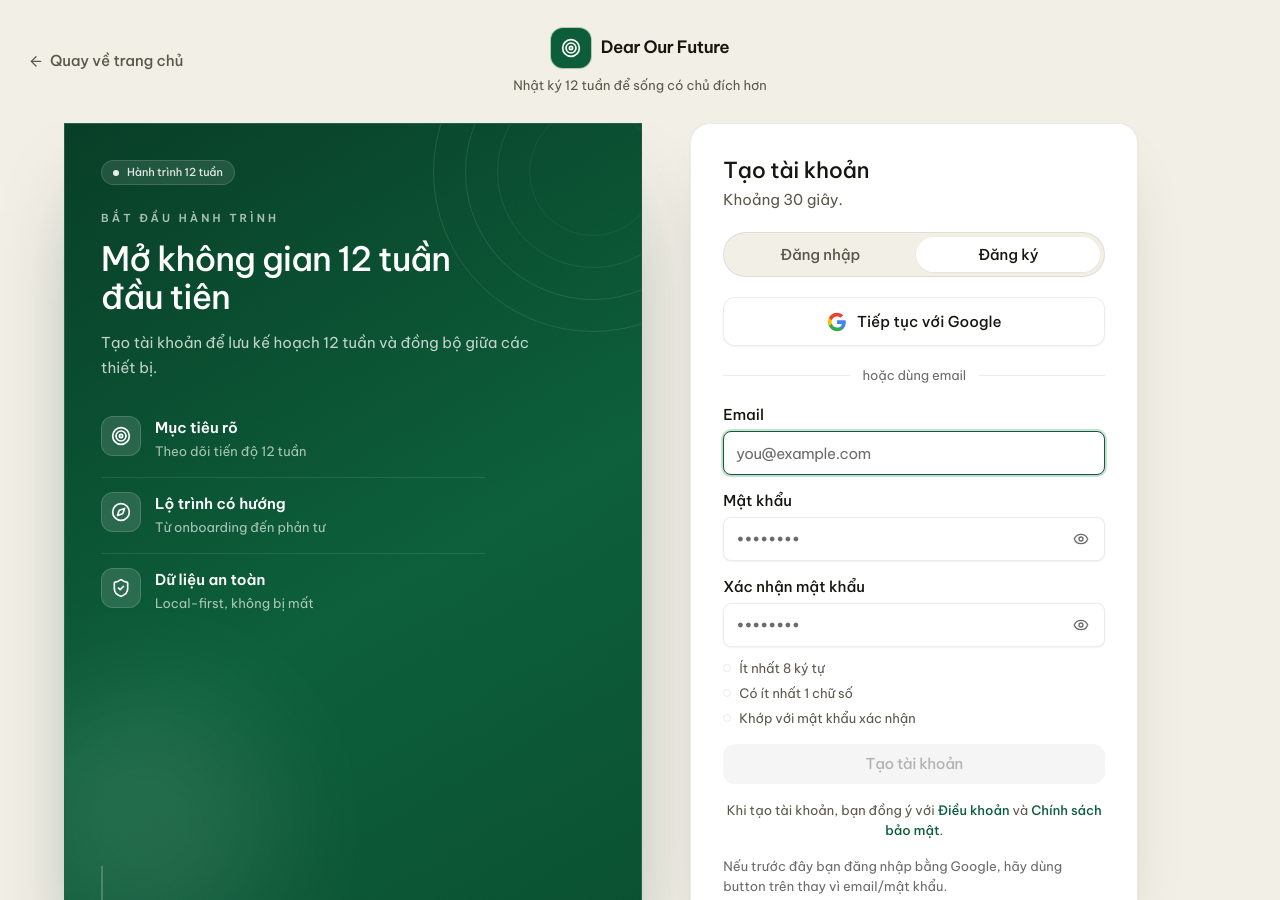
Test: LoginPage › can switch back from sign-up mode to sign-in mode
Click the link "Đăng nhập": (820, 254) x1=780 y1=245 x2=860 y2=264
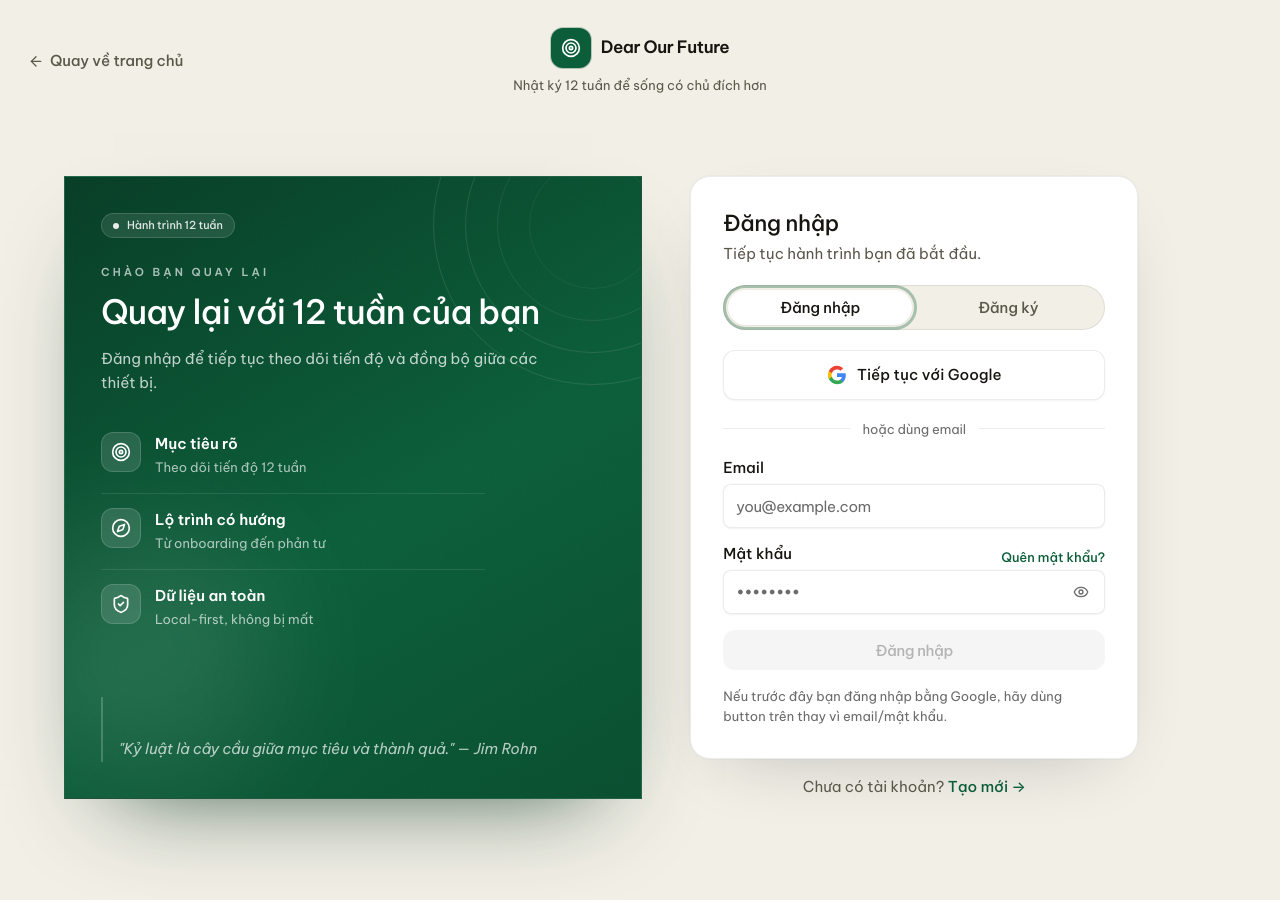
Expected: the number of password fields with placeholder "••••••••" is 1, x1=723 y1=570 x2=1105 y2=614
Expected: the heading "Đăng nhập" is shown, x1=723 y1=209 x2=839 y2=237
Expected: the label labelled "Xác nhận mật khẩu" is gone
